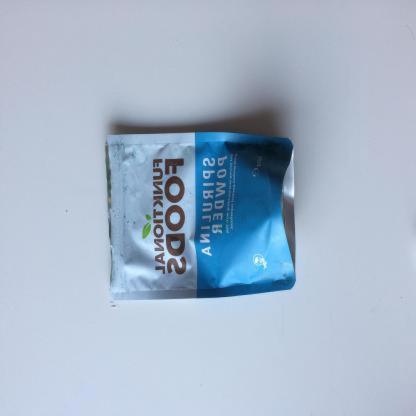Plastic bag - wrapper: (105, 133, 296, 301)
